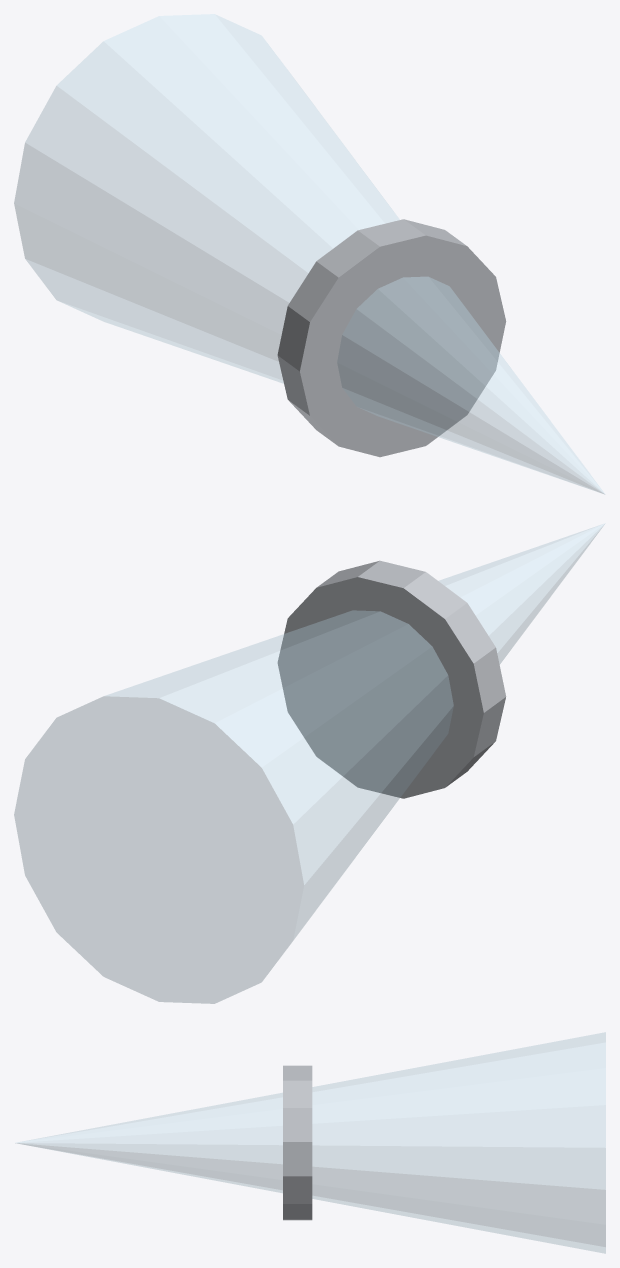
Rendered from god_ray_beam_proxy.glb.
3 views of the same model, one above another, from view 1: azimuth 30°, elevation 25°; view 2: azimuth 150°, elevation 25°; view 3: azimuth 270°, elevation 25° (orthographic). The views are drawn at different scales.
Parts seen in each view (by area): view 1: light_beam, emitter; view 2: light_beam, emitter; view 3: light_beam, emitter.
Boxes of the visible parts, box(x1,y1,x2,y2) form: light_beam: box(14, 14, 605, 494); emitter: box(277, 219, 506, 457); light_beam: box(14, 523, 605, 1003); emitter: box(277, 560, 506, 798); light_beam: box(16, 1032, 605, 1253); emitter: box(283, 1065, 312, 1220).
Size of the model in its own units: 0.9 by 0.9 by 2.4.
